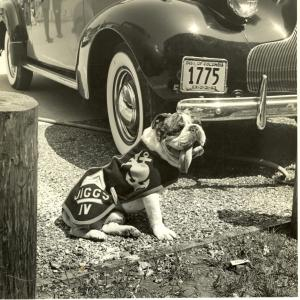Vehicle-registration-plate: (187, 56, 236, 89)
